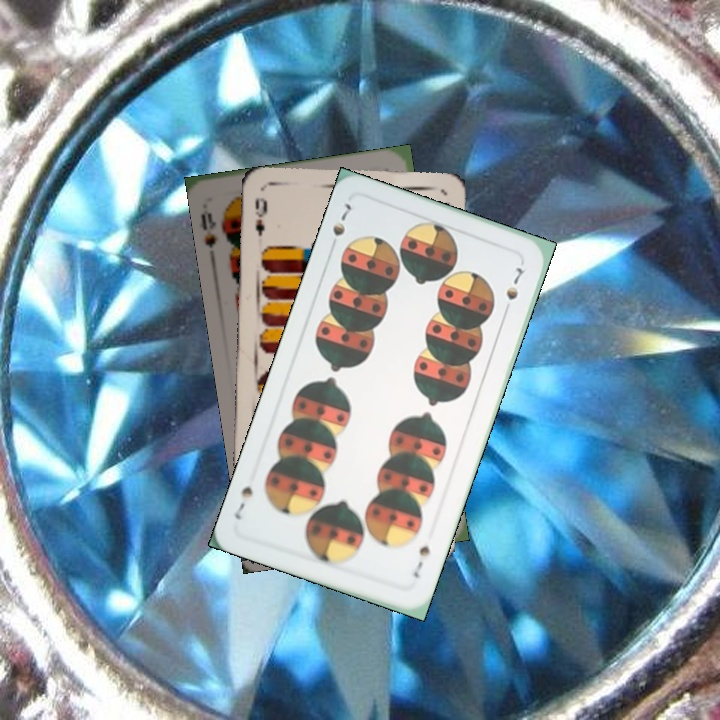E9: (251, 194, 270, 239)
S7: (326, 199, 354, 254), (409, 541, 433, 581)
S8: (197, 209, 220, 251)
